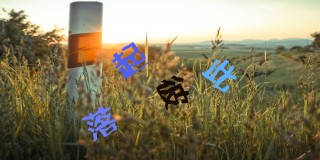彼: (156, 73, 190, 111)
此: (201, 57, 238, 95)
落: (82, 106, 119, 141)
起: (112, 42, 150, 79)
